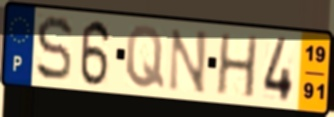4: (261, 35, 295, 105)
6: (79, 18, 113, 88)
H: (214, 32, 260, 101)
N: (166, 27, 210, 96)
Q: (125, 23, 167, 91)
S: (34, 13, 75, 84)
